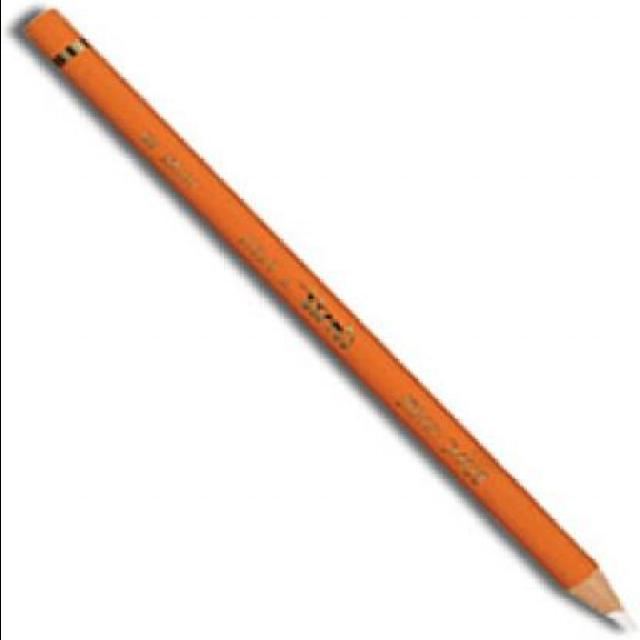pencil: (534, 542, 640, 640)
